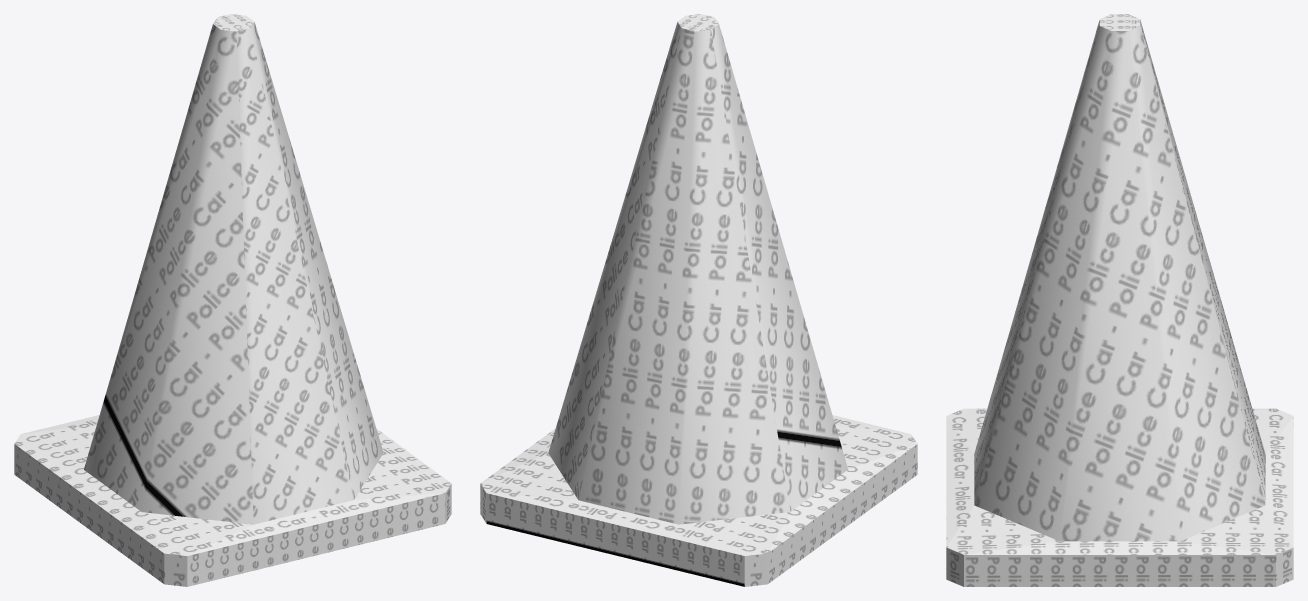
The model's file is traffic_cone.FBX.
3 renders of one model, left to right at view 1: azimuth 30°, elevation 25°; view 2: azimuth 150°, elevation 25°; view 3: azimuth 270°, elevation 25°, orthographic. The views are drawn at different scales.
Visible parts, largest first — view 1: Traffic corn; view 2: Traffic corn; view 3: Traffic corn.
Boxes of the visible parts, x1,y1,x2,y2 form: Traffic corn: (14,14,451,586); Traffic corn: (480,14,917,586); Traffic corn: (946,14,1293,586).
Size of the model in its own units: 47.19 by 47.38 by 73.99.
Materials: 2 (2 with a texture image).
